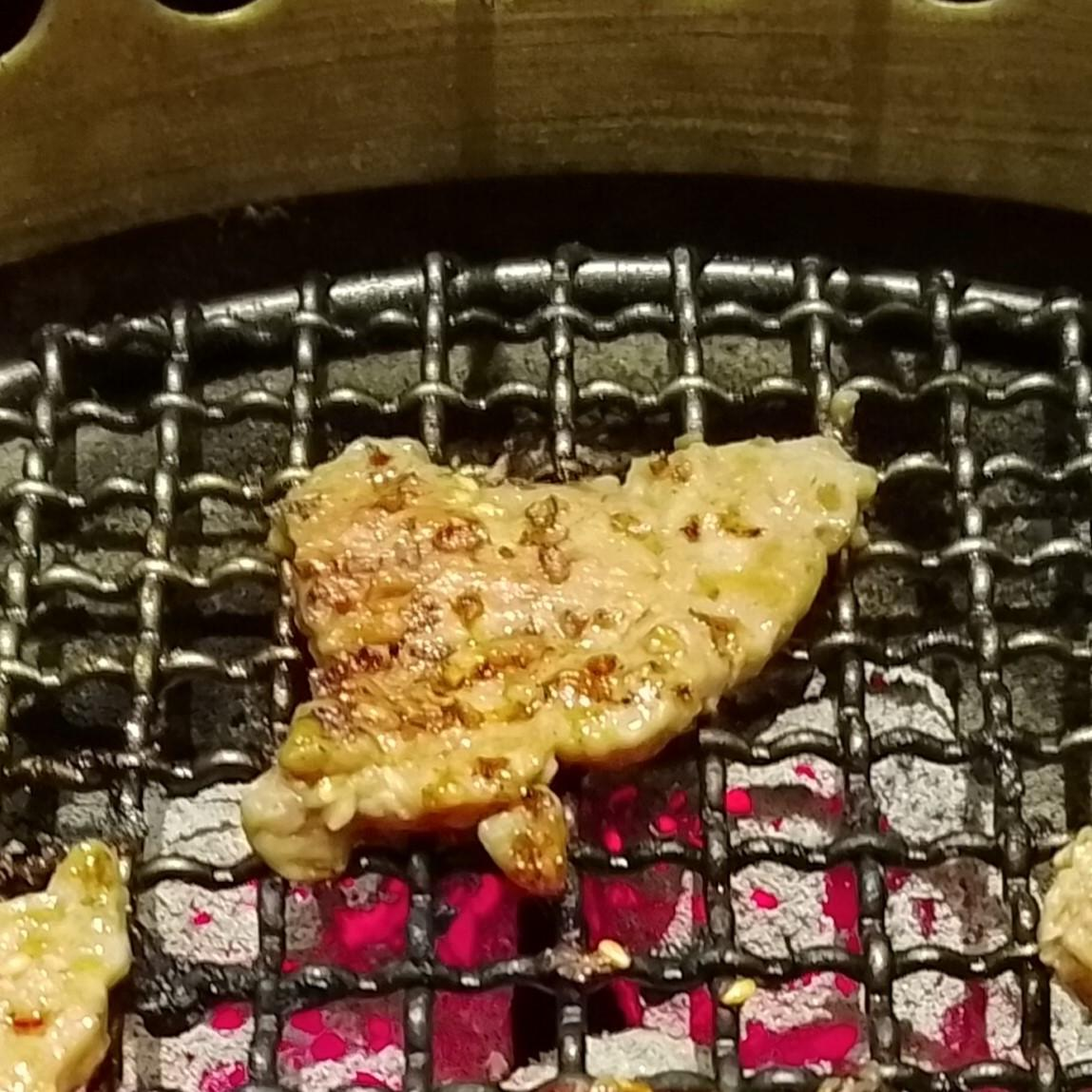Well-Cooked: (234, 435, 878, 884), (0, 845, 131, 1091)
